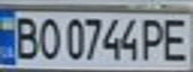0: (63, 15, 84, 61)
4: (118, 15, 142, 62), (100, 15, 124, 61)
7: (81, 15, 103, 61)
B: (9, 14, 42, 61)
E: (157, 15, 193, 63)
O: (33, 15, 63, 61)
P: (139, 15, 169, 62)
